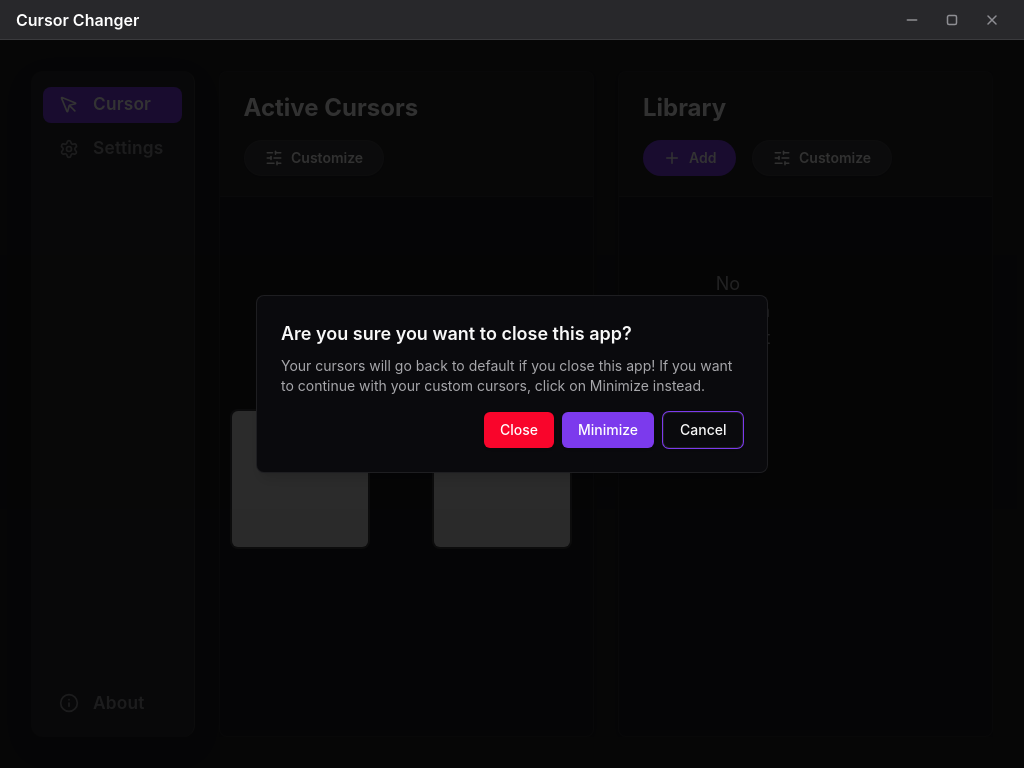
Test case: Close confirmation flow (show-close-confirmation) › minimizes (hides window) and closes dialog when clicking Minimize
Expected: the heading "Are you sure you want to close this app?" is shown, [281, 323, 632, 344]
Click the button "Minimize". click: (608, 430)
box: [562, 412, 654, 448]
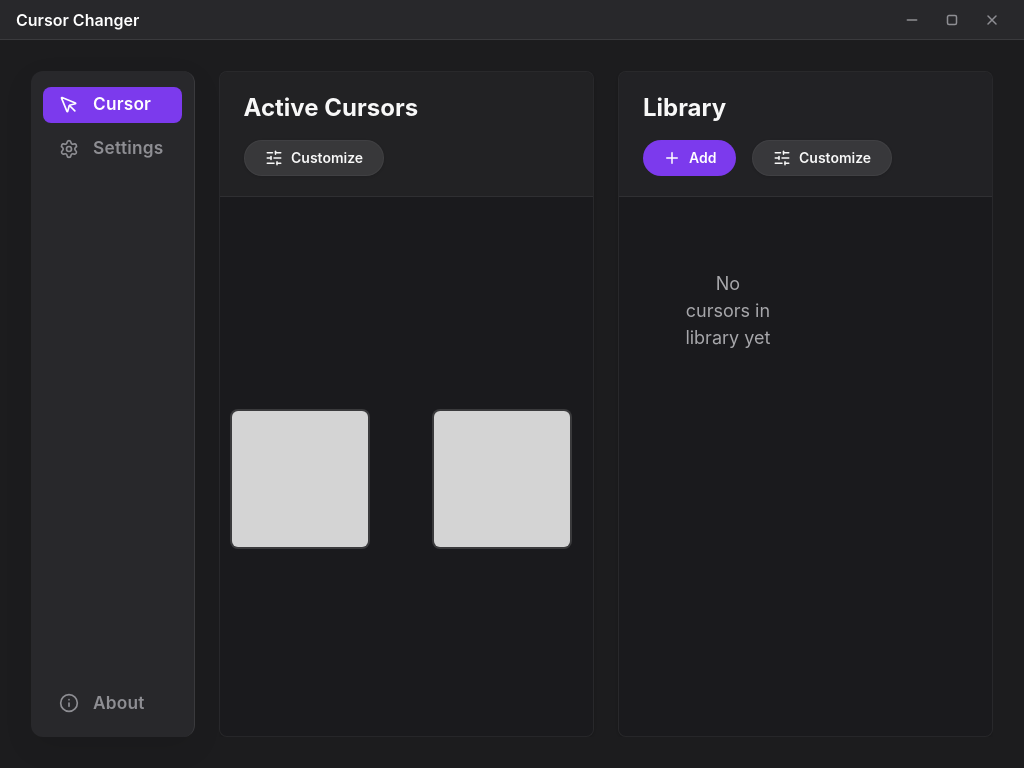
Now the heading "Are you sure you want to close this app?" is gone
